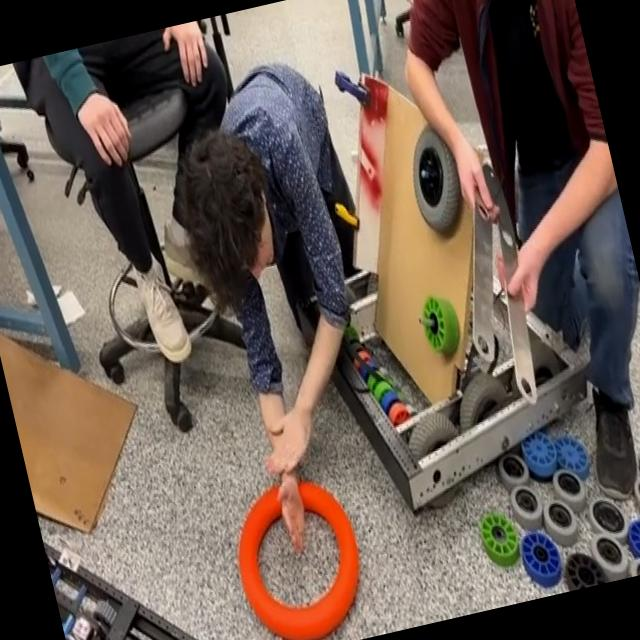note: (218, 463, 379, 640)
